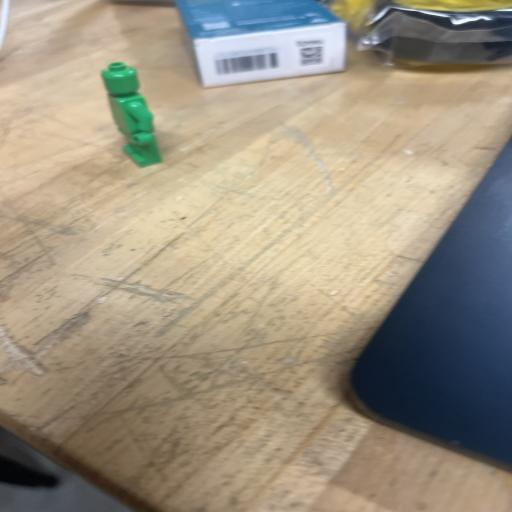green-lego-minifigure-detector: (102, 63, 162, 167)
